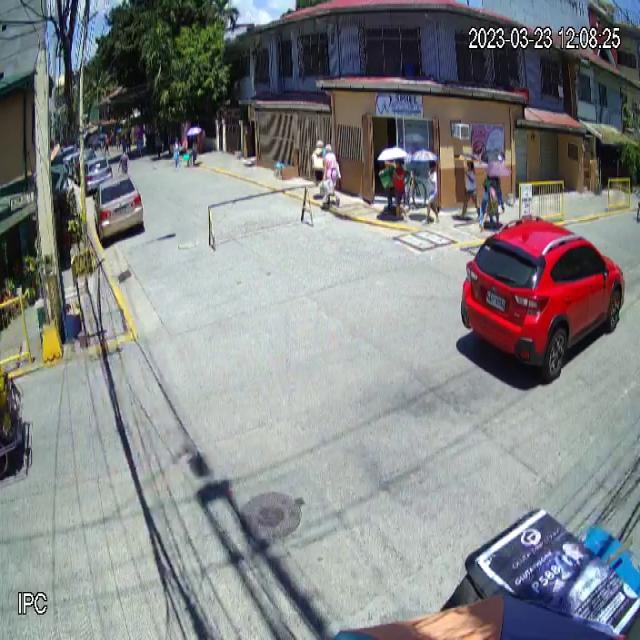Car: (460, 217, 626, 381)
